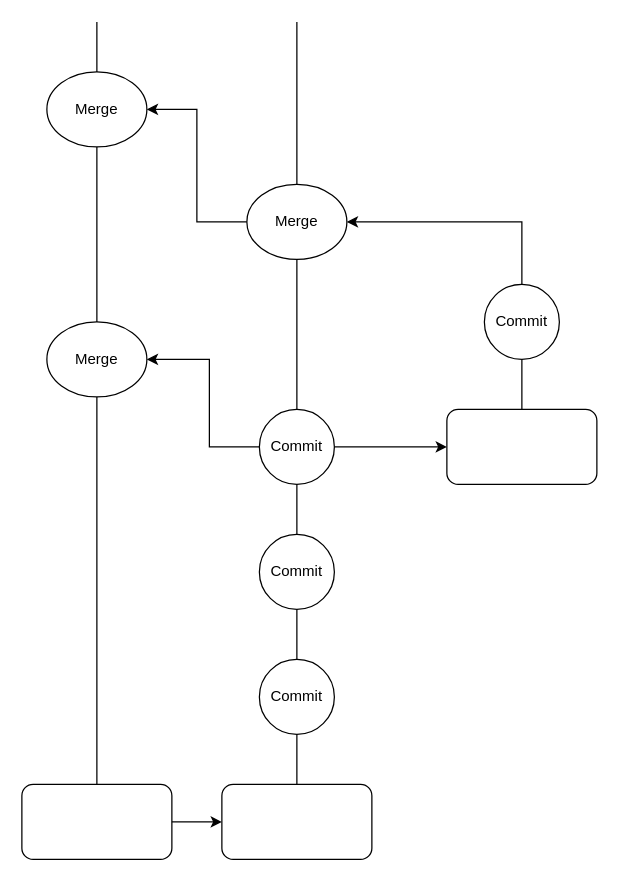
Some shapes in this 619 by 881 pixel diagram are drawn without their labels. Here are the shapes that lost their labels. From the top down, the centre of each, then its label:
the point at 521,446: Feature/Employee
the point at 96,821: Master
the point at 296,821: Developer
